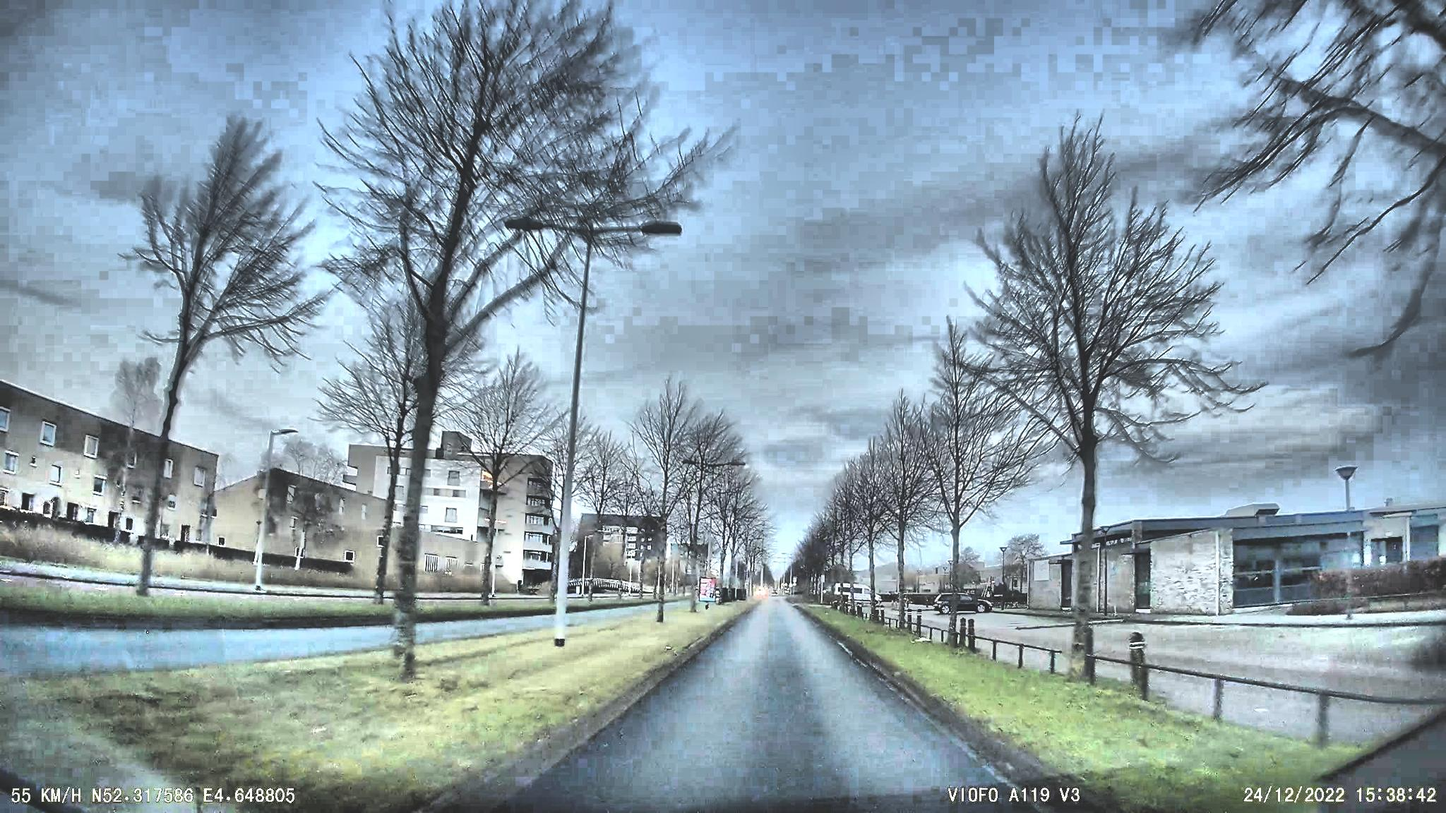Roads: (524, 606, 1030, 813)
